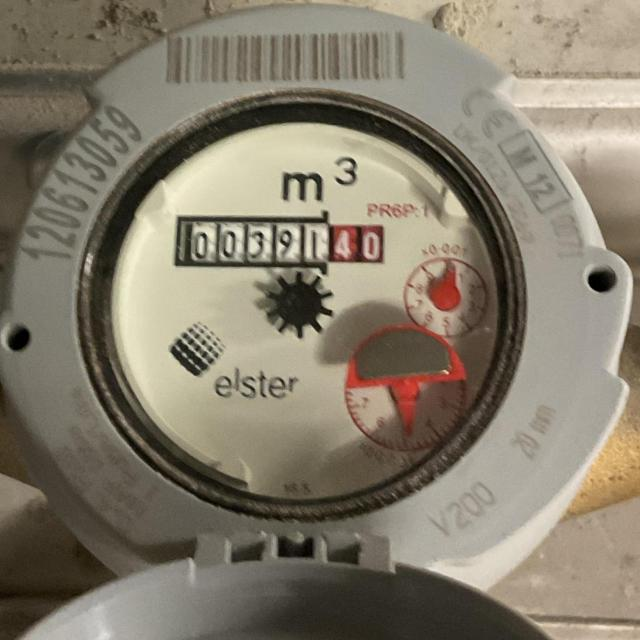gaz_meter: (109, 111, 513, 505)
indication: (177, 212, 385, 268)
